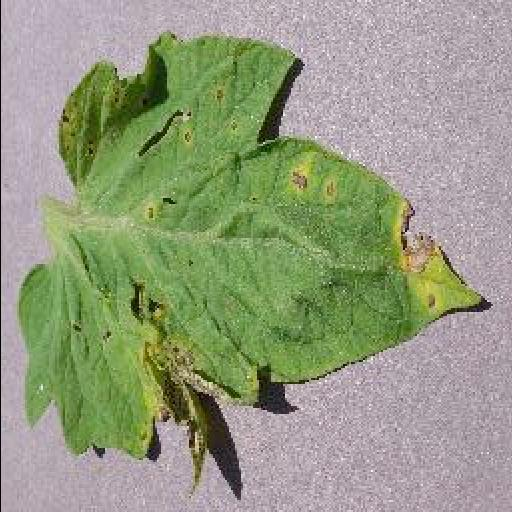disease_tomato: (16, 26, 490, 460)
